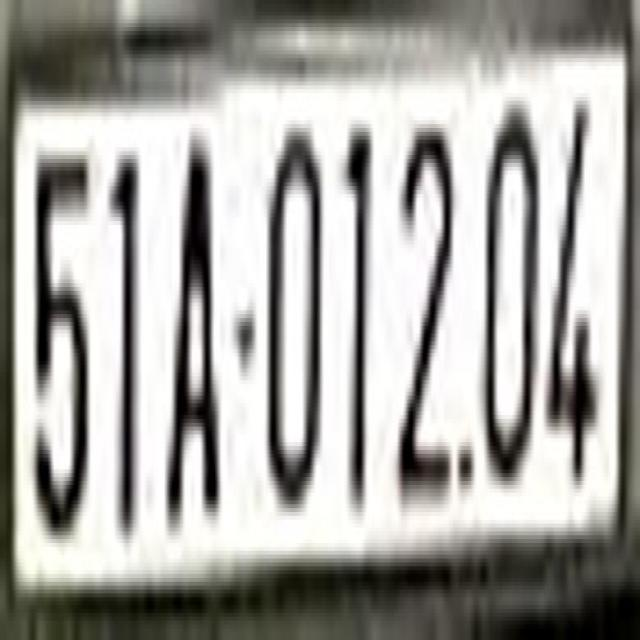0: (266, 128, 322, 508), (485, 101, 537, 473)
1: (340, 120, 367, 504), (111, 140, 137, 535)
2: (400, 120, 451, 489)
4: (547, 101, 599, 473)
5: (34, 151, 88, 524)
A: (167, 151, 219, 512)
